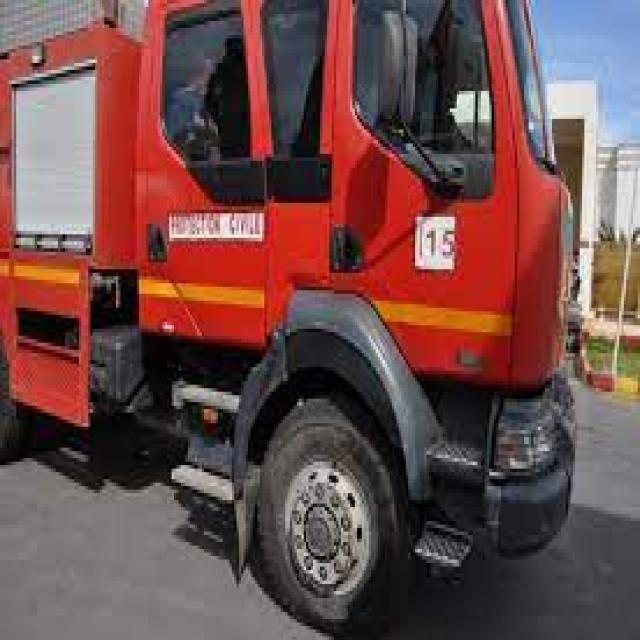pompier: (8, 8, 572, 624)
